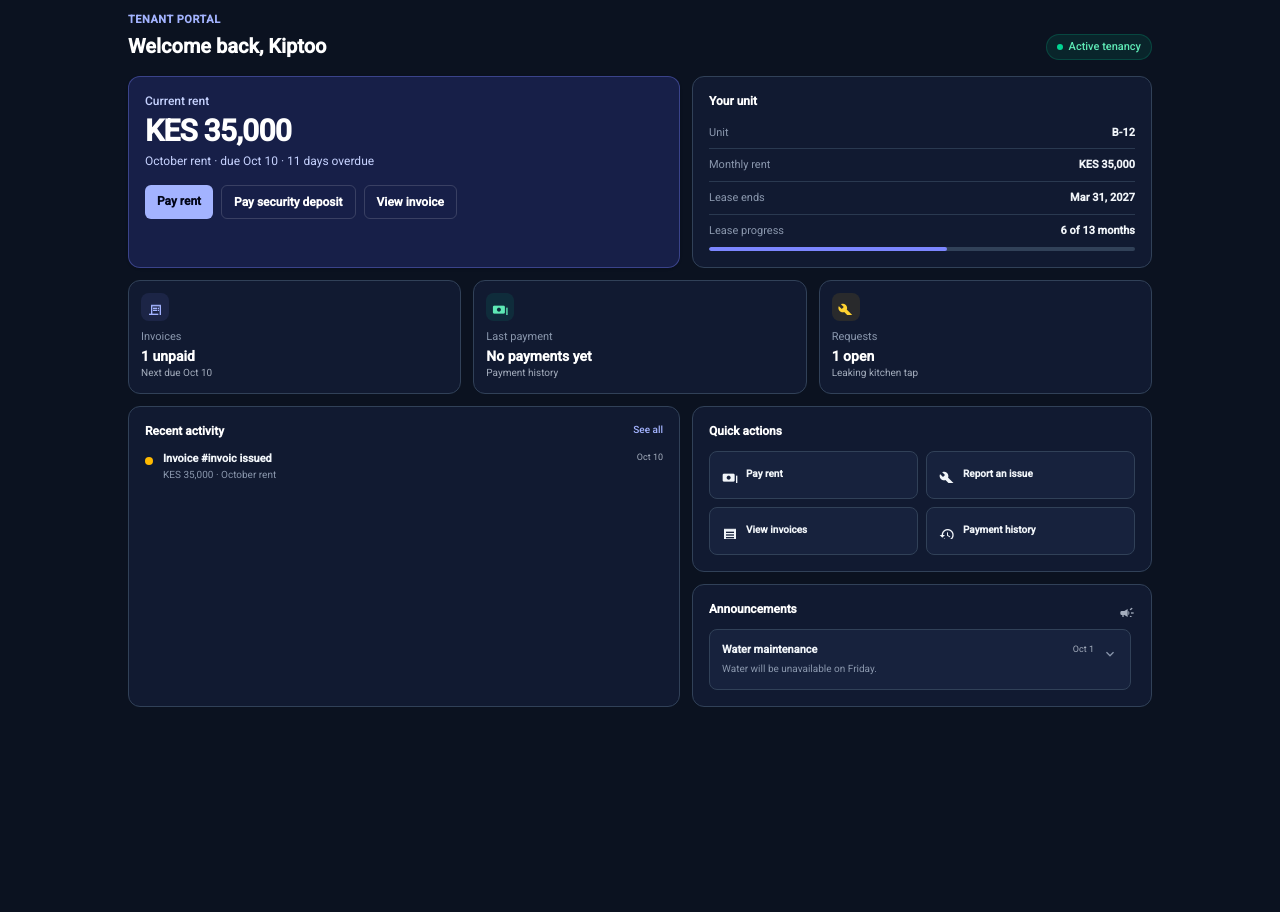
it: TenantPortalComponent › expands an announcement to show its complete details and collapses it on repeat click
Click the button "Water maintenance Water will be unavailable on Friday. Oct 1": point(770, 649) x1=710 y1=630 x2=1130 y2=690
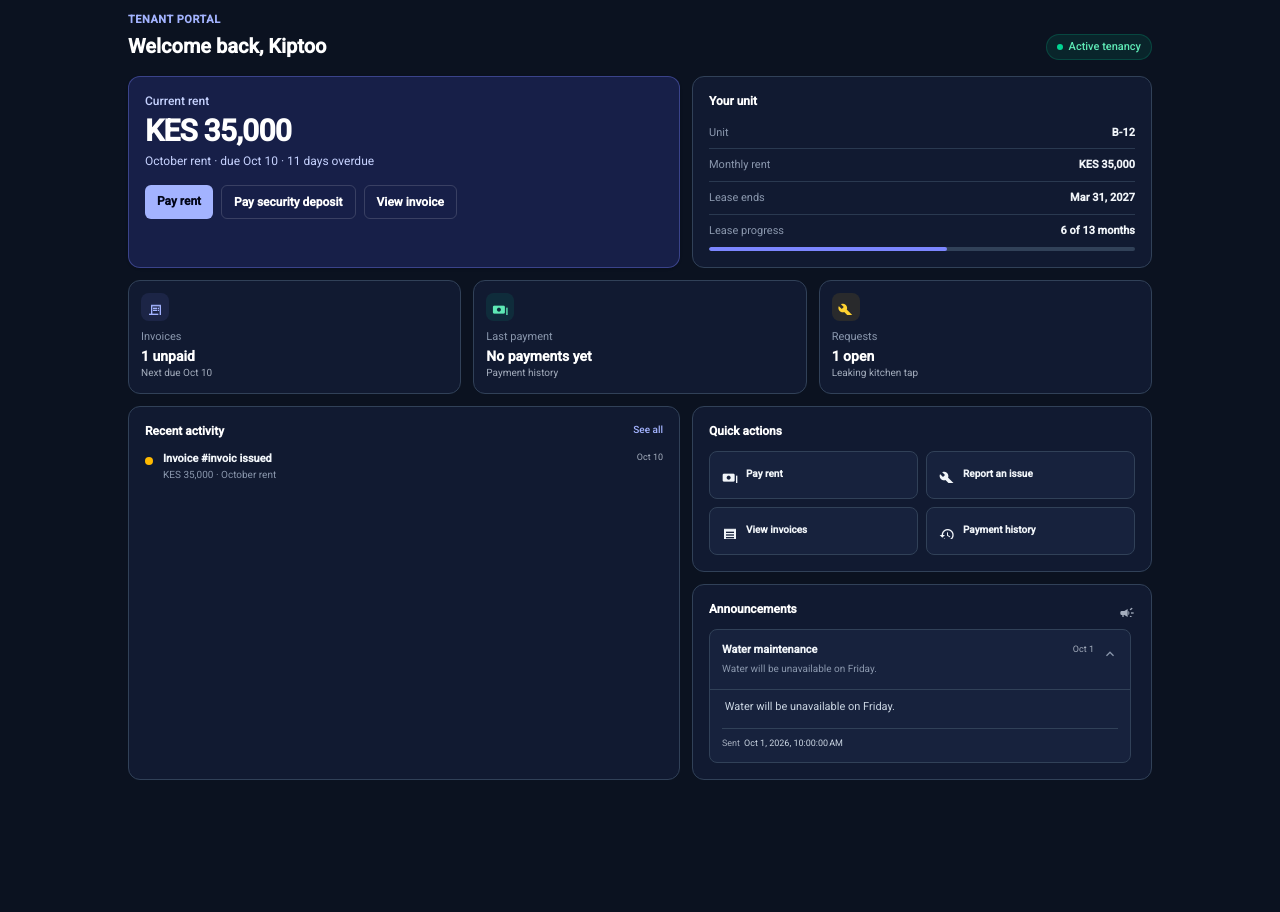
Expected: the text "Water will be unavailable on Friday." is shown, x1=722 y1=663 x2=877 y2=674
Expected: the text "Sent" is shown, x1=722 y1=737 x2=740 y2=750
Expected: the element with id "announcement-details-announcement-1" is shown, x1=710 y1=690 x2=1130 y2=762
Click the button "Water maintenance Water will be unavailable on Friday. Oct 1": point(770, 649) x1=710 y1=630 x2=1130 y2=690
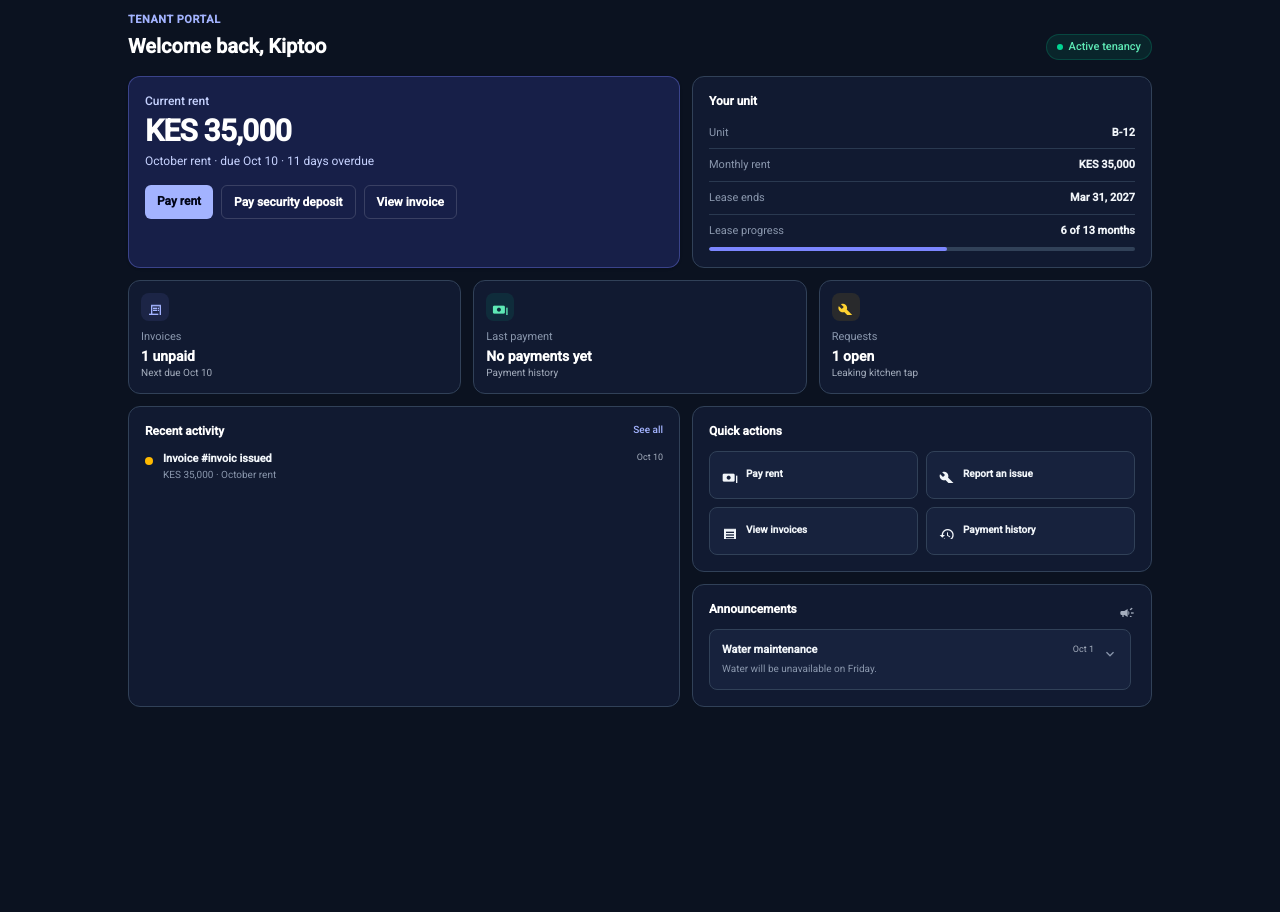
Expected: the element with id "announcement-details-announcement-1" is gone
